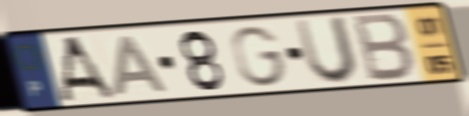8: (178, 28, 226, 93)
A: (58, 34, 120, 103), (111, 33, 171, 98)
B: (352, 11, 417, 84)
G: (229, 23, 290, 89)
U: (292, 14, 362, 87)
